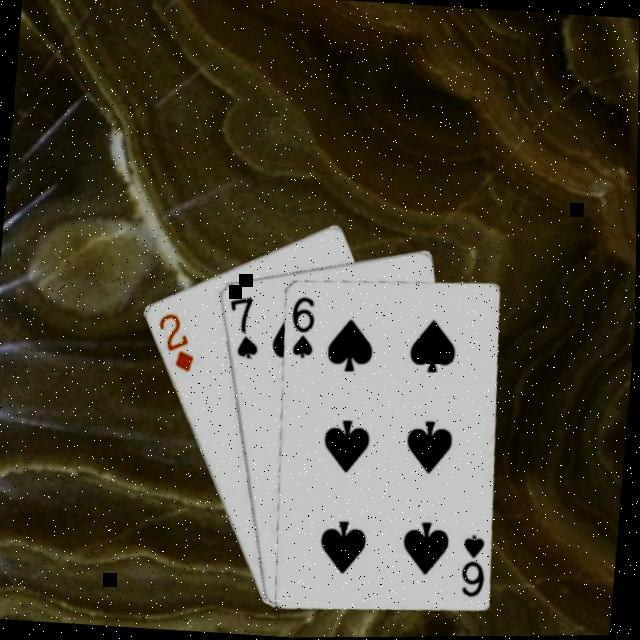2D: (151, 309, 200, 375)
6S: (285, 294, 319, 363), (456, 532, 490, 601)
7S: (221, 292, 265, 362)
